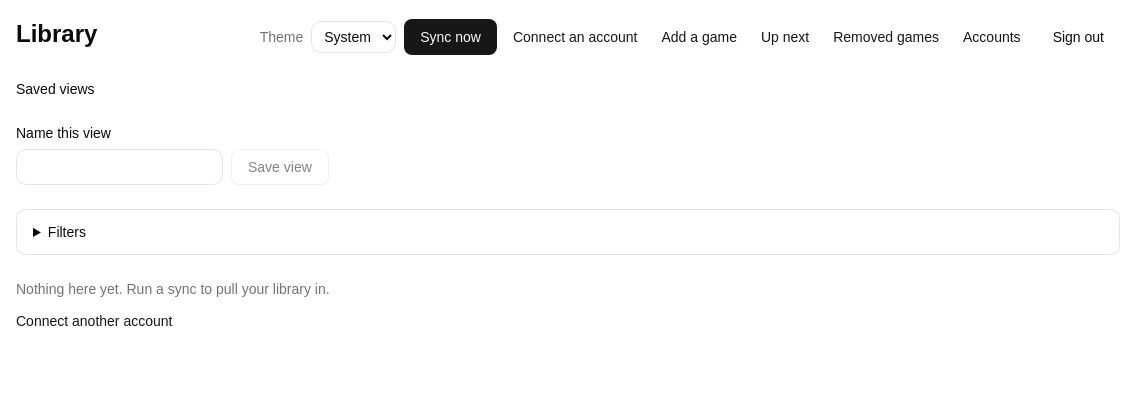
Scenario: library › treats a 409 as news rather than as an error
Click the button "Sync now". click: (451, 37)
box: [404,19,497,55]
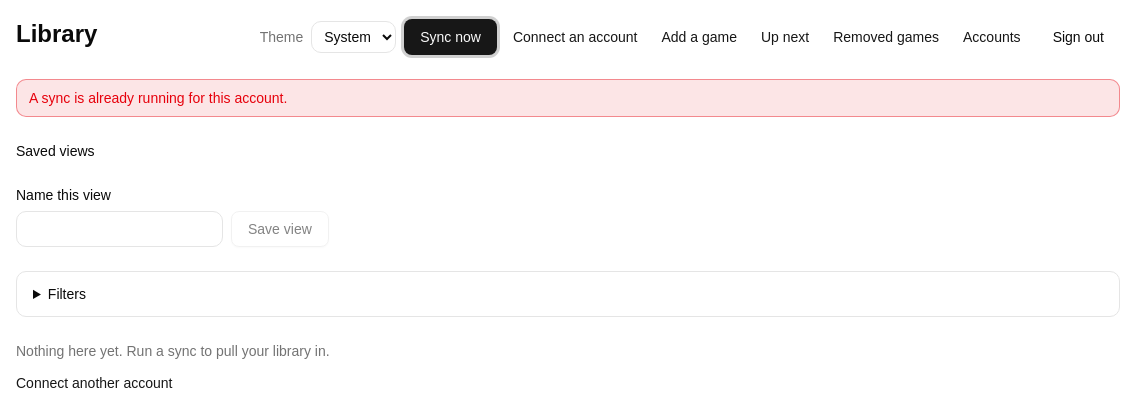
Expected: the message reads "A sync is already running for this account.", [29,90,287,106]
